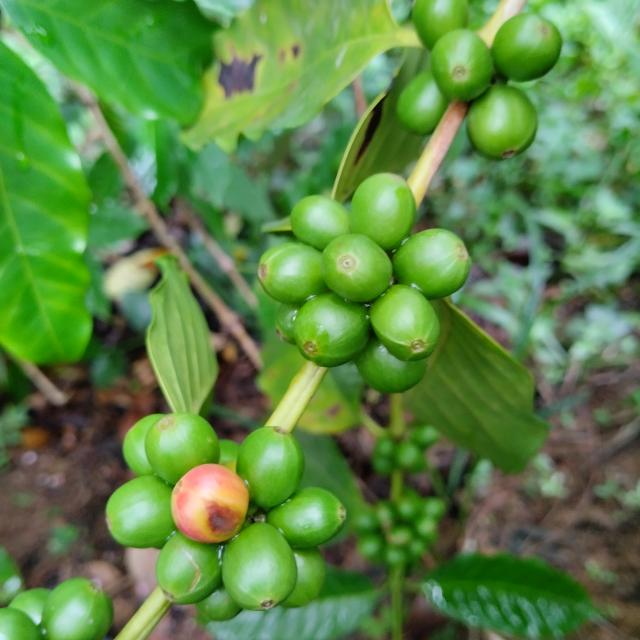green: (222, 523, 297, 612), (294, 292, 371, 368), (392, 228, 472, 299), (236, 427, 304, 509), (144, 412, 219, 485), (370, 284, 441, 361), (468, 84, 539, 159), (105, 476, 176, 549), (350, 172, 416, 250), (155, 532, 222, 606), (266, 488, 347, 549), (492, 12, 563, 81), (321, 234, 393, 302), (431, 28, 494, 100), (258, 242, 328, 304), (355, 337, 427, 394), (397, 69, 449, 134), (290, 195, 350, 250), (280, 548, 326, 609), (122, 414, 164, 477), (196, 589, 242, 622), (275, 303, 301, 344), (219, 440, 240, 473)
red: (171, 464, 249, 544)
